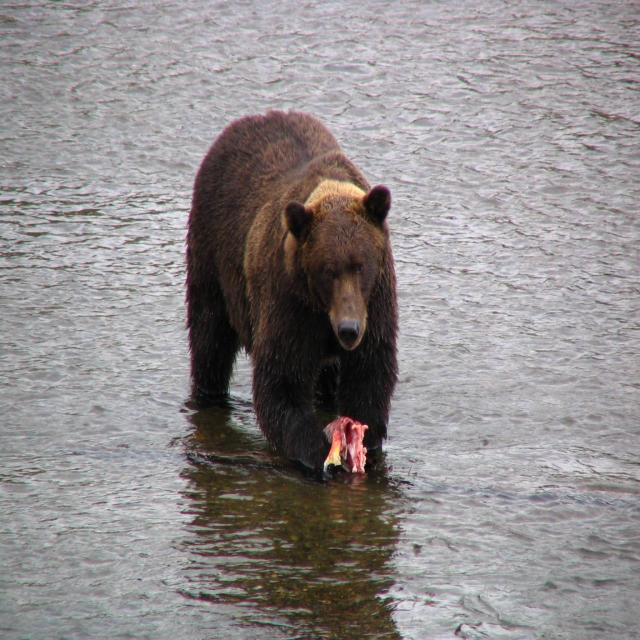bear face: (186, 111, 397, 468)
